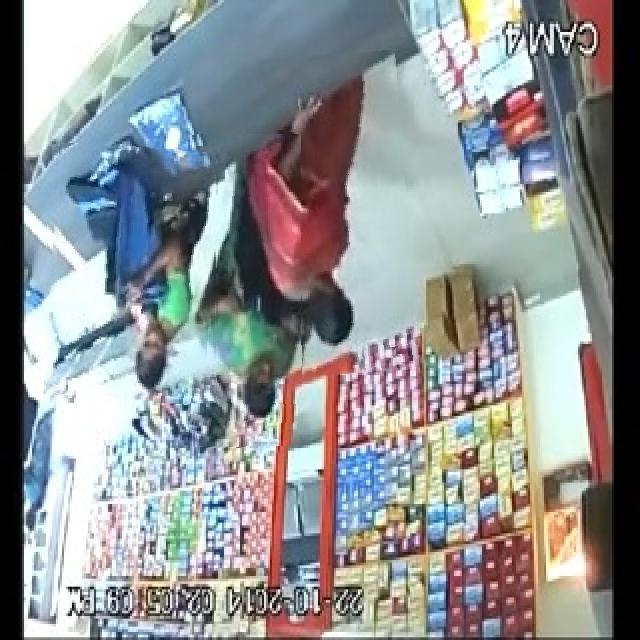Normal: (227, 53, 414, 379), (47, 146, 216, 403), (189, 134, 301, 446)
